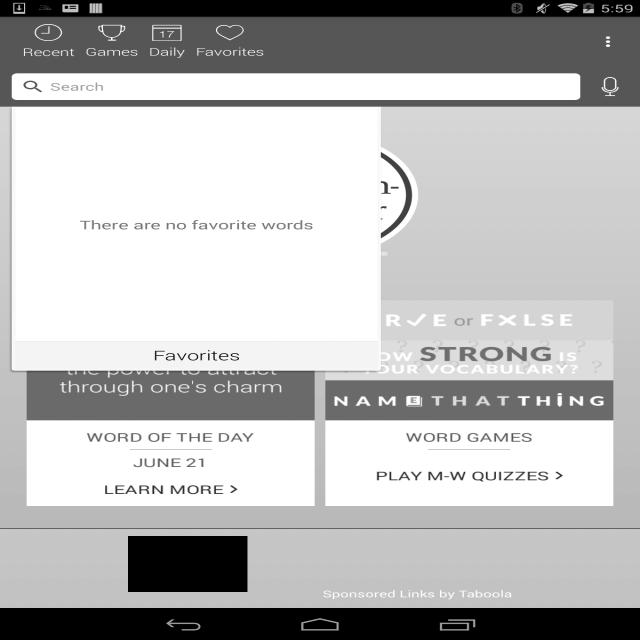EditText: (12, 73, 580, 100)
ImageView: (213, 129, 427, 262), (128, 536, 247, 592), (353, 336, 522, 358), (332, 372, 542, 384), (580, 73, 640, 100), (589, 26, 631, 58), (446, 310, 518, 320), (356, 310, 420, 320), (32, 24, 64, 41), (96, 24, 128, 41), (151, 24, 183, 41), (214, 24, 246, 41)
TextView: (15, 108, 378, 341), (260, 565, 512, 600), (32, 345, 245, 375), (364, 420, 510, 454), (142, 341, 251, 369), (268, 262, 370, 285), (73, 400, 204, 413), (100, 319, 178, 338), (86, 441, 190, 454), (388, 400, 486, 413), (196, 44, 264, 59), (85, 44, 138, 59), (110, 420, 168, 433), (22, 45, 75, 59), (149, 44, 185, 59), (420, 306, 446, 326)
